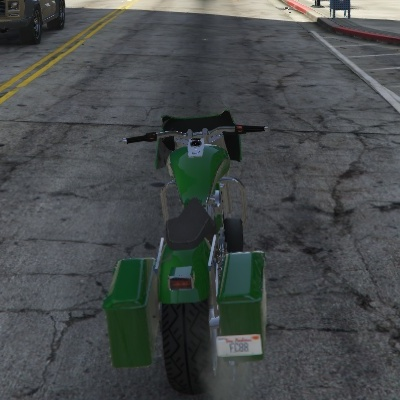off: (167, 264, 198, 296)
